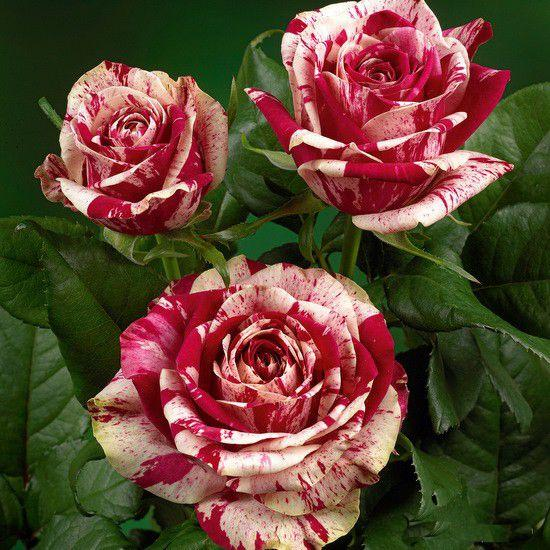Rose: (90, 256, 418, 550), (253, 0, 518, 233), (37, 56, 234, 239)
